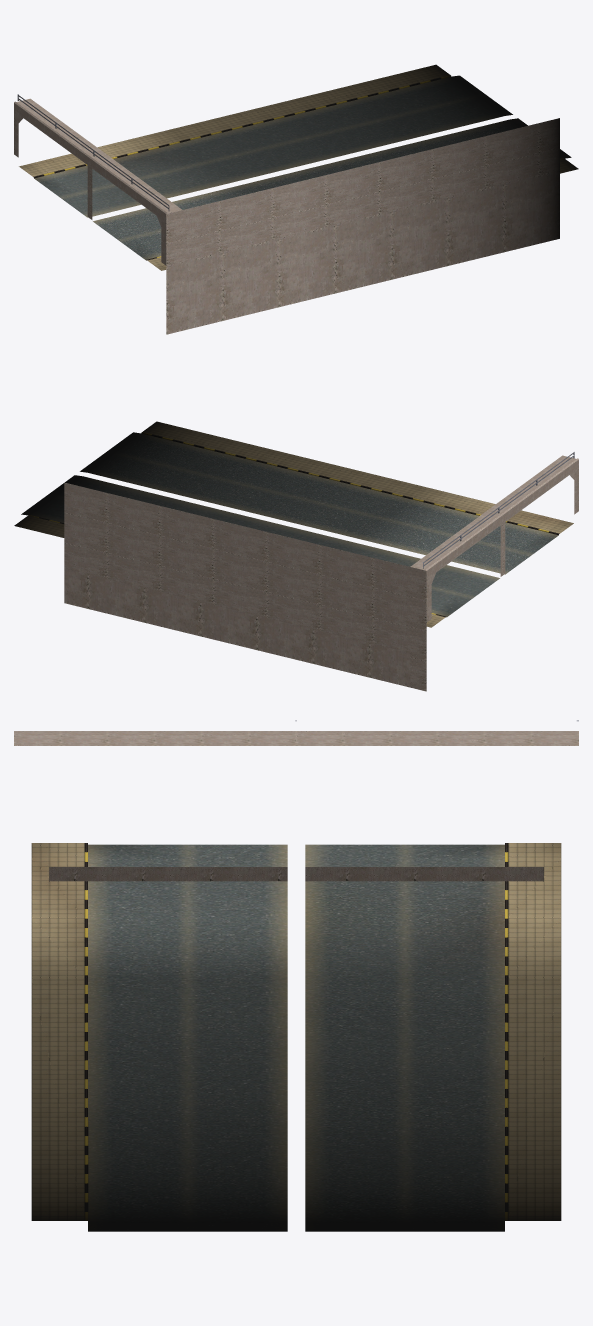
File: M2_Zone4_FlyOver_Tunnel2.glb
3 views of the same model, one above another, from view 1: azimuth 30°, elevation 25°; view 2: azimuth 150°, elevation 25°; view 3: azimuth 270°, elevation 25° (orthographic). The views are drawn at different scales.
Parts seen in each view (by area): view 1: M2_ZONE4_FLYOVER_TUNNEL2; view 2: M2_ZONE4_FLYOVER_TUNNEL2; view 3: M2_ZONE4_FLYOVER_TUNNEL2.
Part boxes in pixels (bbox=[...]): M2_ZONE4_FLYOVER_TUNNEL2: bbox=[14, 64, 578, 334]; M2_ZONE4_FLYOVER_TUNNEL2: bbox=[14, 421, 578, 691]; M2_ZONE4_FLYOVER_TUNNEL2: bbox=[14, 720, 578, 1231].
Bounding box in the file's own units: 51.67 × 14.88 × 32.
Materials: 5 (5 with a texture image).
